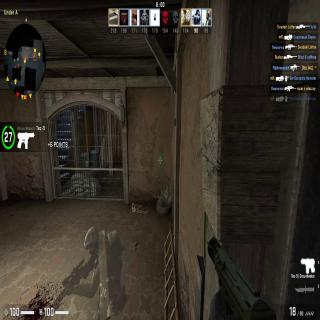CT-Body: (74, 218, 124, 316)
CT-Head: (84, 225, 100, 257)
